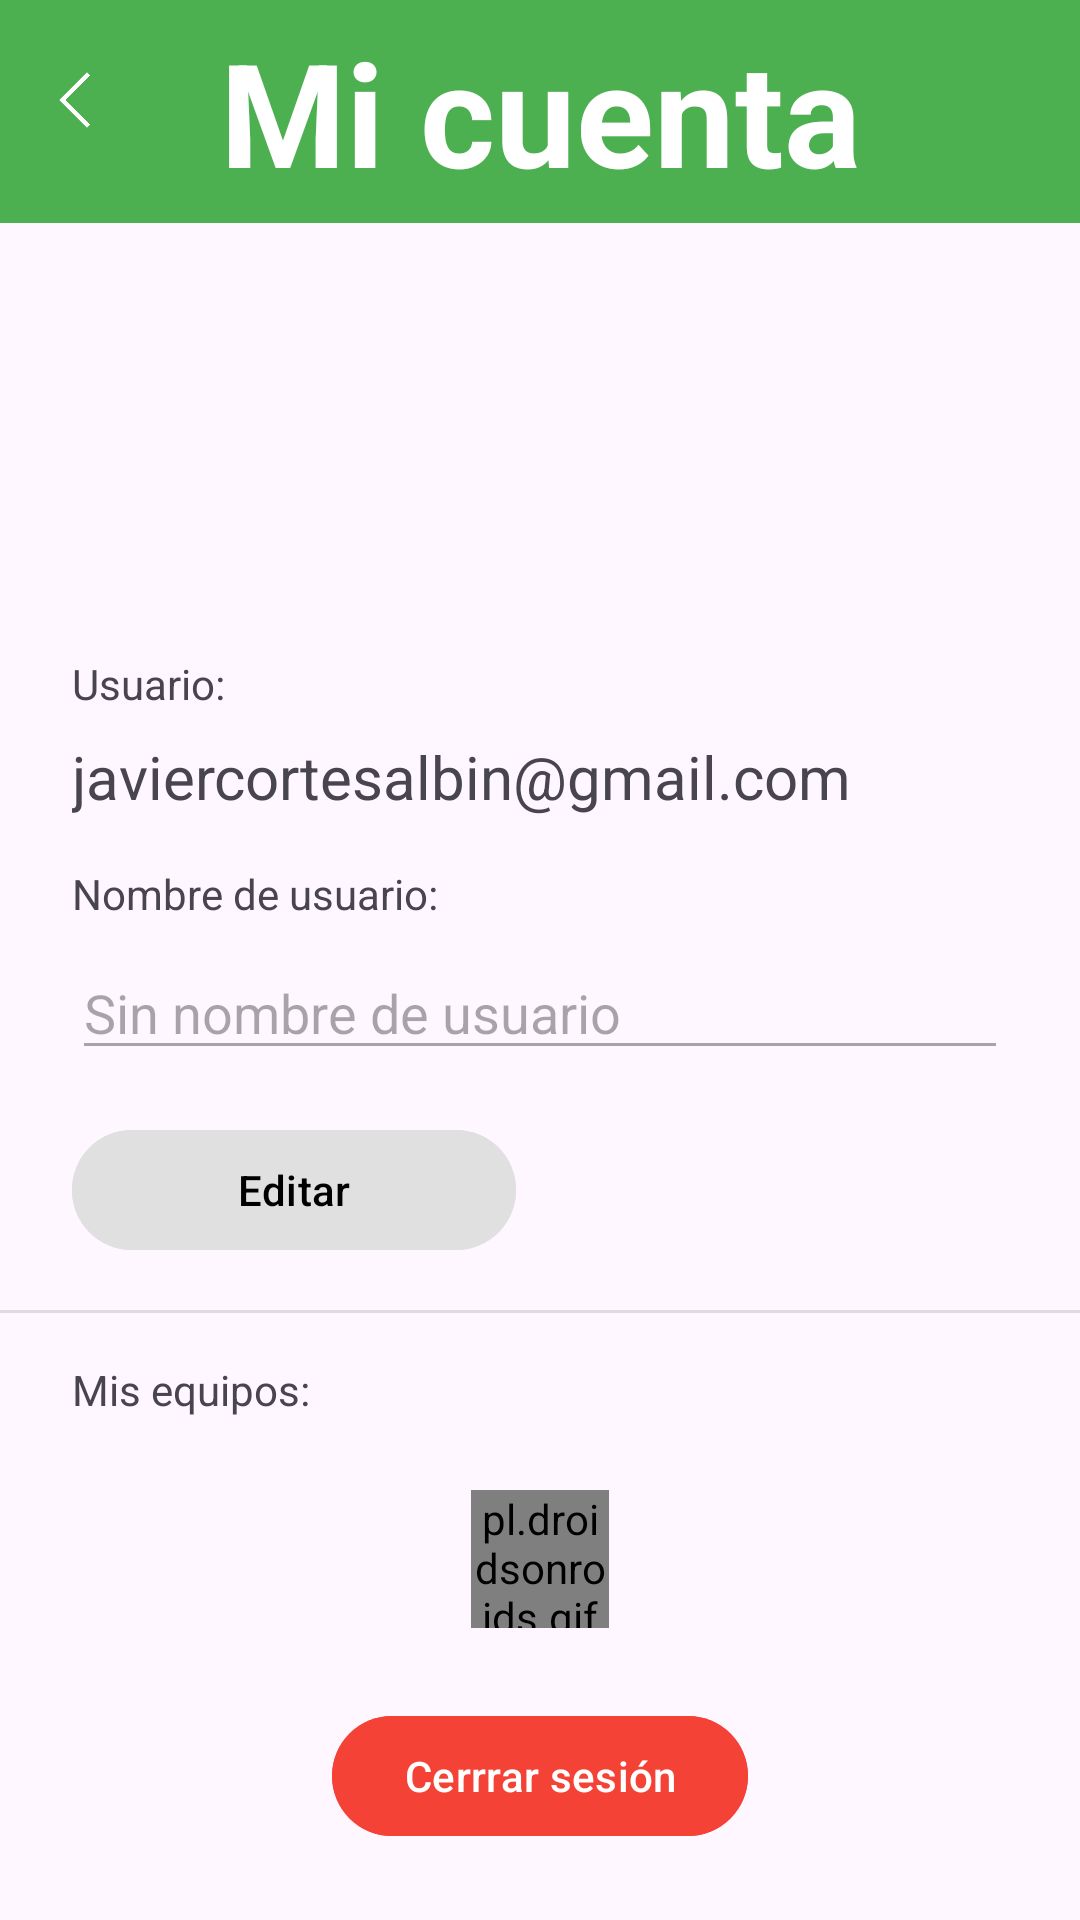

Named icons in this screenshot (1080px×1920px) and their bounding boxes, region(x1, y1, x2, y2):
arrow back: region(59, 72, 90, 128)
